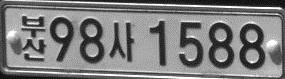1: (147, 20, 174, 66)
5: (178, 21, 204, 67)
8: (208, 21, 235, 68), (79, 17, 105, 64), (239, 22, 265, 69)
9: (49, 15, 73, 62)
부산_V: (20, 15, 46, 61)
사: (108, 22, 134, 63)
